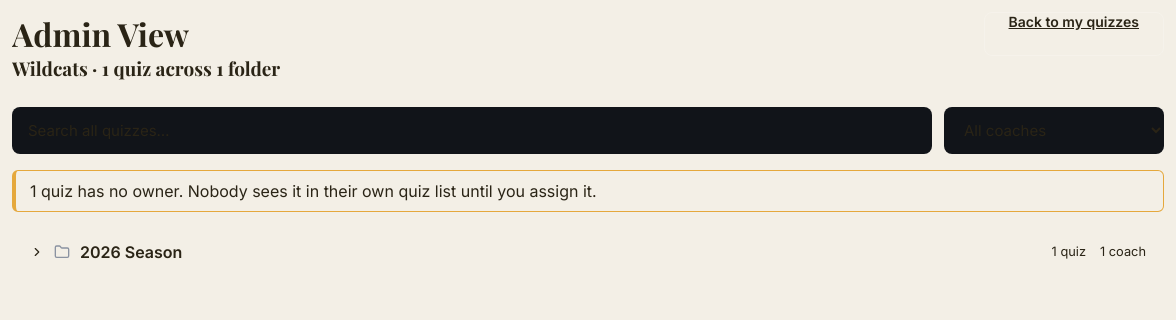
Test: AdminQuizzesPage › marks an unassigned quiz in place, without moving it out of its folder
Click the text "2026 Season".
click(131, 252)  # box x1=80 y1=242 x2=182 y2=262
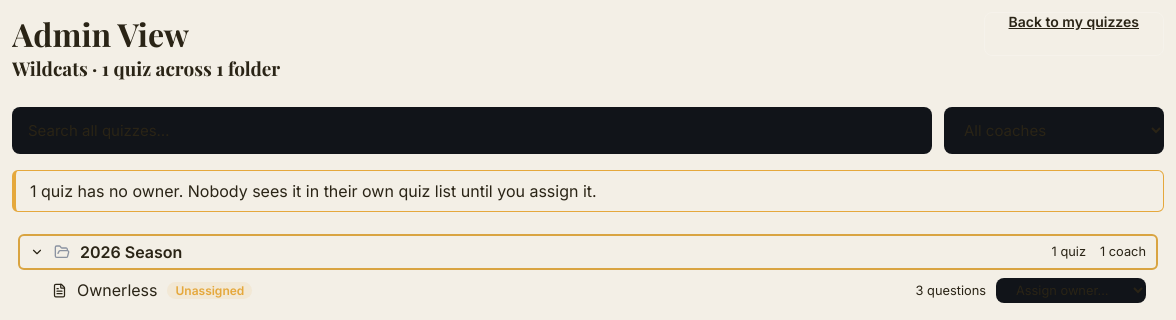
Now the text "Unassigned" is shown, box x1=168 y1=282 x2=252 y2=298
Now the dropdown named "Assign owner for Ownerless" next to "questions" is shown, box x1=996 y1=278 x2=1146 y2=302
